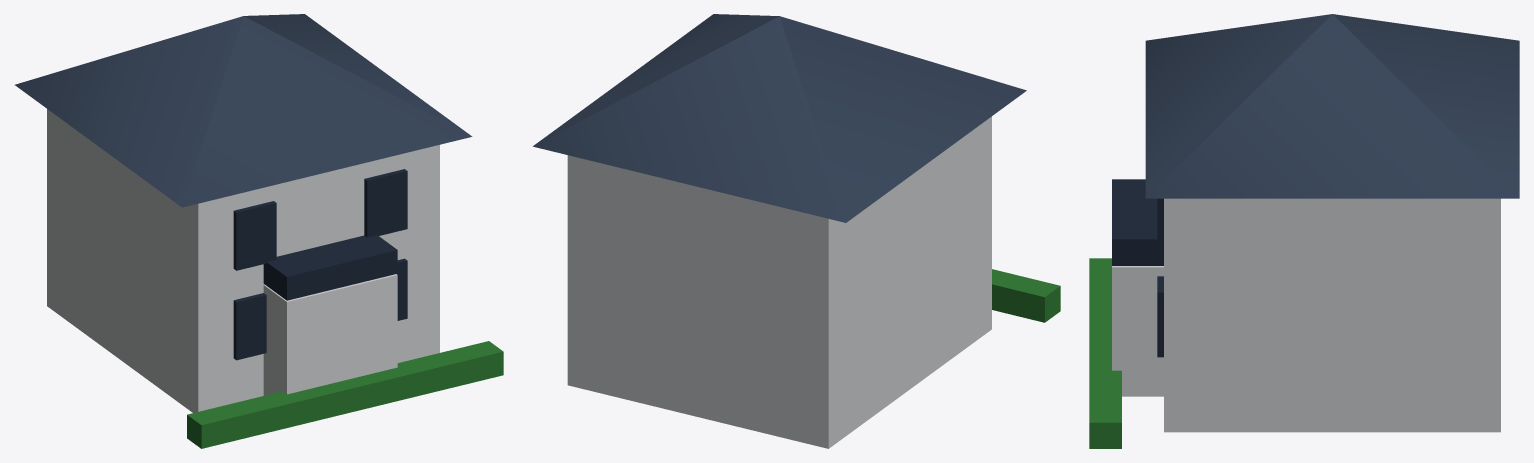
File: vinhomes_villa.glb
The picture shows the model from 3 angles, left to right: view 1: azimuth 30°, elevation 25°; view 2: azimuth 150°, elevation 25°; view 3: azimuth 270°, elevation 25°; orthographic projection. The views are drawn at different scales.
Visible parts, largest first — view 1: Walls, MansardRoof, TrimsAndBalcony, GardenHedge; view 2: Walls, MansardRoof, GardenHedge; view 3: Walls, MansardRoof, GardenHedge, TrimsAndBalcony.
Boxes of the visible parts, x1,y1,x2,y2 form: Walls: (47,109,439,412); MansardRoof: (15,14,472,207); TrimsAndBalcony: (233,169,407,360); GardenHedge: (187,341,503,448); Walls: (567,116,991,448); MansardRoof: (533,14,1026,222); GardenHedge: (992,269,1060,322); Walls: (1112,198,1500,432); MansardRoof: (1145,14,1519,198); GardenHedge: (1089,258,1121,448); TrimsAndBalcony: (1112,179,1163,357).
Size of the model in its own units: 6 by 6 by 6.63.
